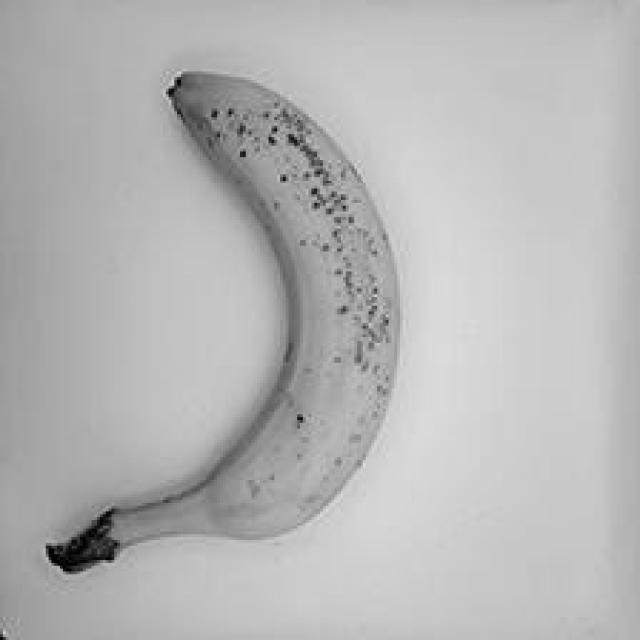Overripe: (52, 33, 423, 587)
